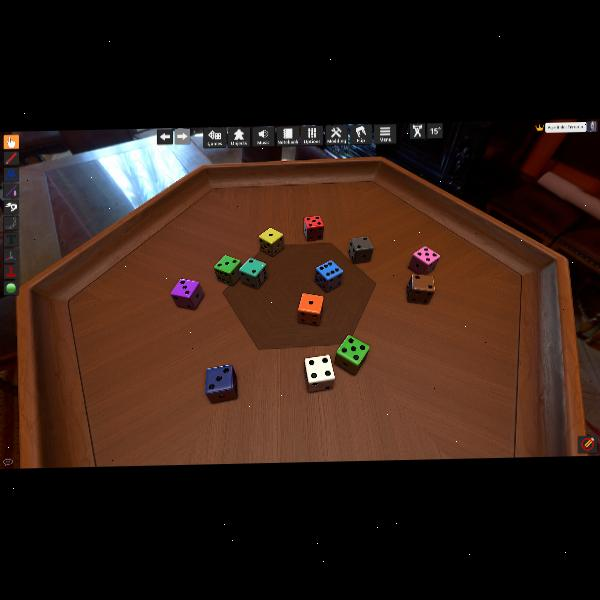d6: (334, 334, 370, 373), (205, 364, 237, 402), (303, 354, 334, 392), (170, 277, 204, 310), (408, 245, 440, 276), (239, 256, 267, 289), (315, 259, 343, 292), (214, 254, 242, 286), (406, 273, 434, 304), (298, 293, 323, 325), (258, 226, 284, 256), (348, 236, 374, 264), (303, 215, 323, 241)
